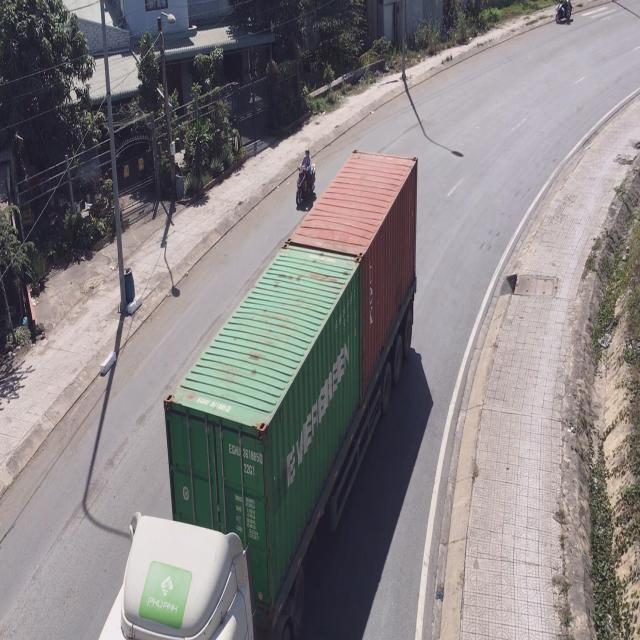motorbike: (292, 147, 318, 207), (554, 1, 574, 24)
truck: (96, 152, 422, 640)
